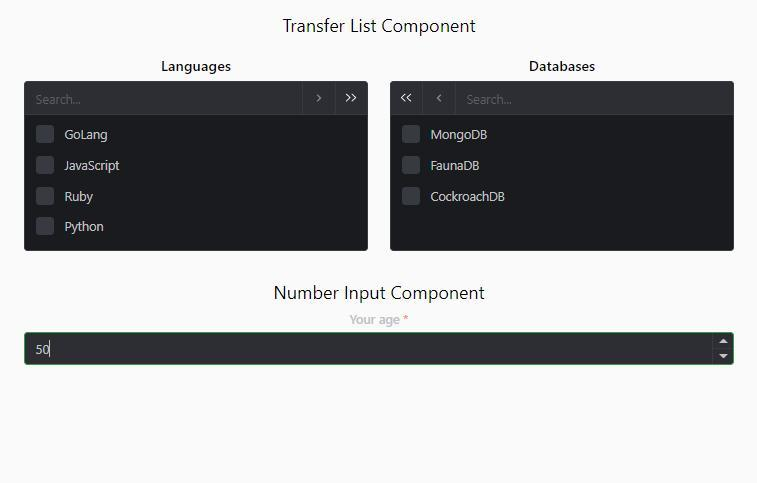checkbox: (36, 188, 57, 207), (402, 156, 423, 175), (402, 186, 423, 205), (402, 125, 422, 144), (37, 219, 57, 236), (37, 158, 55, 175), (37, 128, 55, 144)
icon: (396, 92, 417, 107), (346, 92, 360, 106), (430, 94, 446, 106), (314, 93, 325, 105)
input: (453, 83, 735, 117), (26, 82, 302, 114)
label: (429, 189, 507, 209), (429, 125, 489, 143), (64, 160, 124, 177), (429, 158, 481, 175), (62, 129, 110, 144), (64, 221, 106, 237), (64, 189, 95, 205)
